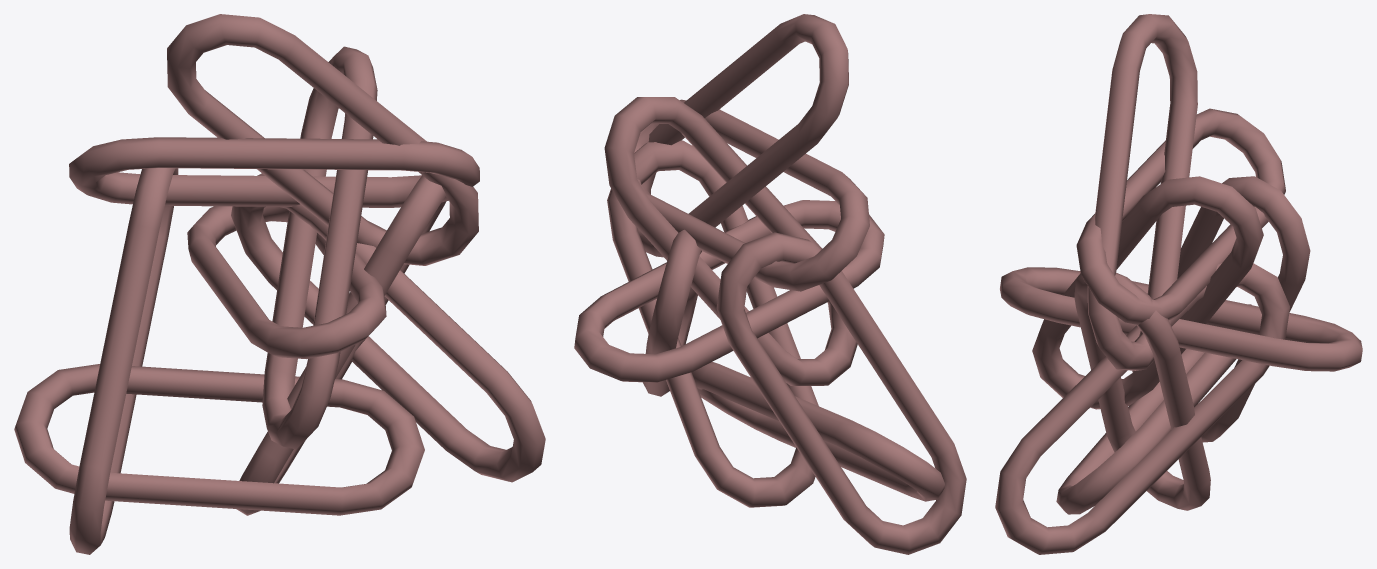
File: El pelusa.fbx
3 renders of one model, left to right at view 1: azimuth 30°, elevation 25°; view 2: azimuth 150°, elevation 25°; view 3: azimuth 270°, elevation 25°, orthographic. The views are drawn at different scales.
Parts seen in each view (by area): view 1: El_pelusa; view 2: El_pelusa; view 3: El_pelusa.
Boxes of the visible parts, left/top/right/bottom form: El_pelusa: left=14, top=14, right=545, bottom=554; El_pelusa: left=574, top=14, right=966, bottom=554; El_pelusa: left=995, top=14, right=1362, bottom=554.
Size of the model in its own units: 1.52 by 1.86 by 1.3.
